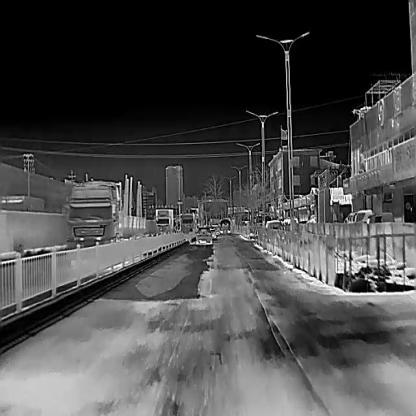car: (66, 180, 146, 250), (266, 221, 286, 242), (343, 208, 373, 222), (156, 208, 174, 231), (366, 210, 393, 222), (196, 227, 212, 244), (180, 212, 193, 232), (220, 218, 230, 232)
